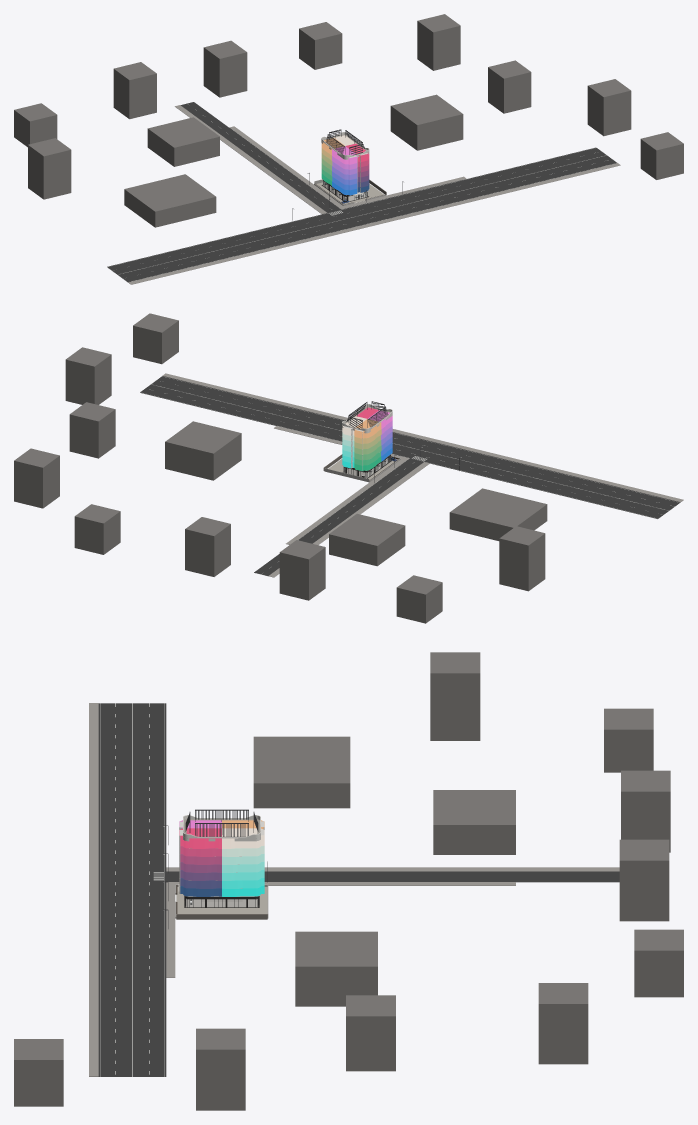
Rendered from building.glb.
3 views of the same model, one above another, from view 1: azimuth 30°, elevation 25°; view 2: azimuth 150°, elevation 25°; view 3: azimuth 270°, elevation 25° (orthographic). The views are drawn at different scales.
Visible parts, largest first — view 1: FarSkyline, Asph, Far, Walk, Building, Mark, Kerb; view 2: FarSkyline, Asph, Far, Walk, Building, Mark, Kerb; view 3: FarSkyline, Asph, Far, Walk, Building, Mark, Pave, ID_F7W1, ID_F7W4.
Part boxes in pixels (x1,y1,x2,y2): FarSkyline: (14, 14, 683, 199); Asph: (107, 102, 616, 282); Far: (124, 94, 463, 227); Walk: (128, 105, 620, 284); Building: (321, 129, 369, 201); Mark: (107, 104, 608, 281); Kerb: (229, 127, 466, 209); FarSkyline: (14, 313, 545, 623); Asph: (140, 376, 680, 575); Far: (165, 421, 547, 566); Walk: (162, 373, 683, 577); Building: (342, 401, 392, 478); Mark: (140, 377, 677, 574); Kerb: (277, 426, 409, 539); FarSkyline: (14, 652, 683, 1110); Asph: (98, 703, 619, 1076); Far: (253, 736, 515, 1006); Walk: (89, 703, 619, 1076); Building: (178, 809, 264, 907); Mark: (100, 703, 164, 1076); Pave: (176, 887, 267, 913); ID_F7W1: (179, 828, 221, 848); ID_F7W4: (222, 828, 264, 848).
Size of what is drawn, in the model's own units: 349 by 33.05 by 243.
